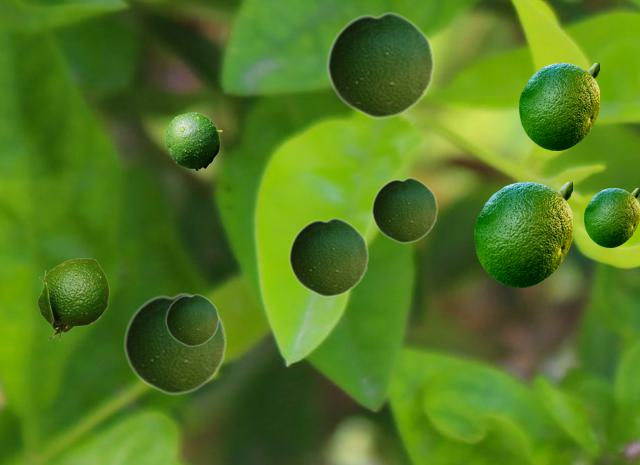dalandan: (326, 10, 434, 119), (123, 291, 226, 395), (474, 182, 571, 286), (519, 63, 598, 149), (288, 216, 368, 297), (36, 258, 108, 339), (371, 176, 437, 243), (165, 112, 221, 170), (584, 188, 638, 246), (165, 293, 218, 346)
